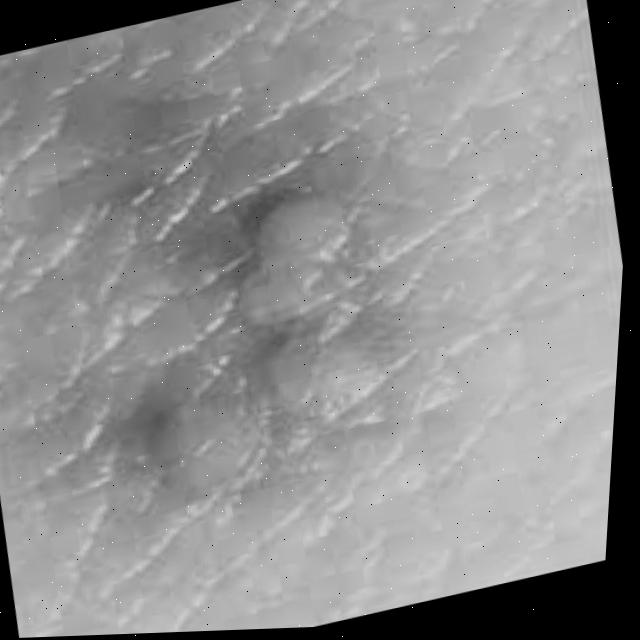Shingles: (107, 152, 420, 495)
